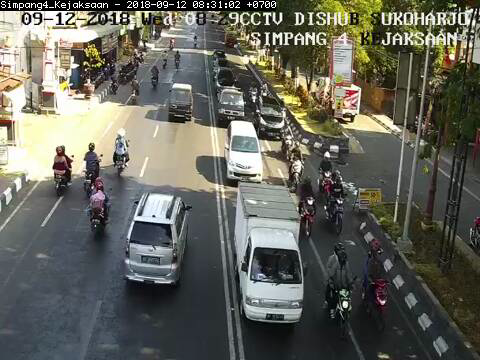motor: (323, 240, 357, 340), (360, 238, 394, 333), (327, 169, 349, 235), (298, 174, 319, 239), (286, 141, 304, 187)
